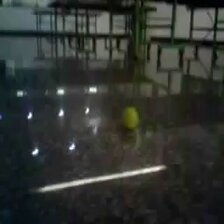tennis: (120, 106, 139, 130)
